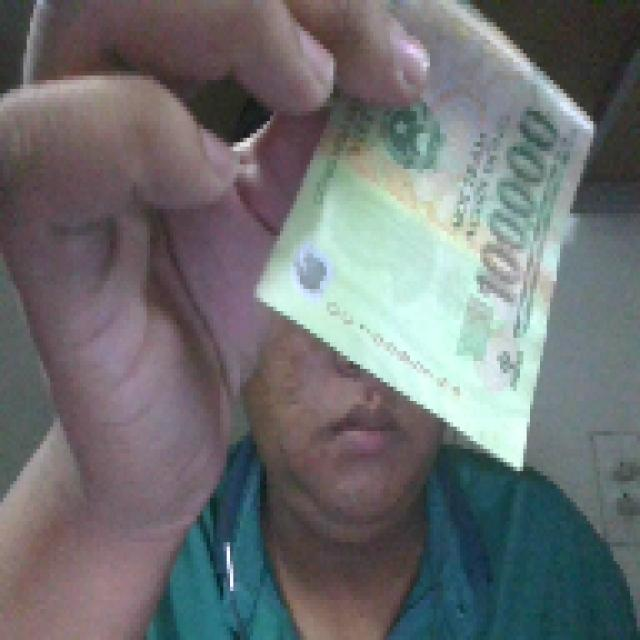100 000 VND: (250, 0, 600, 476)
